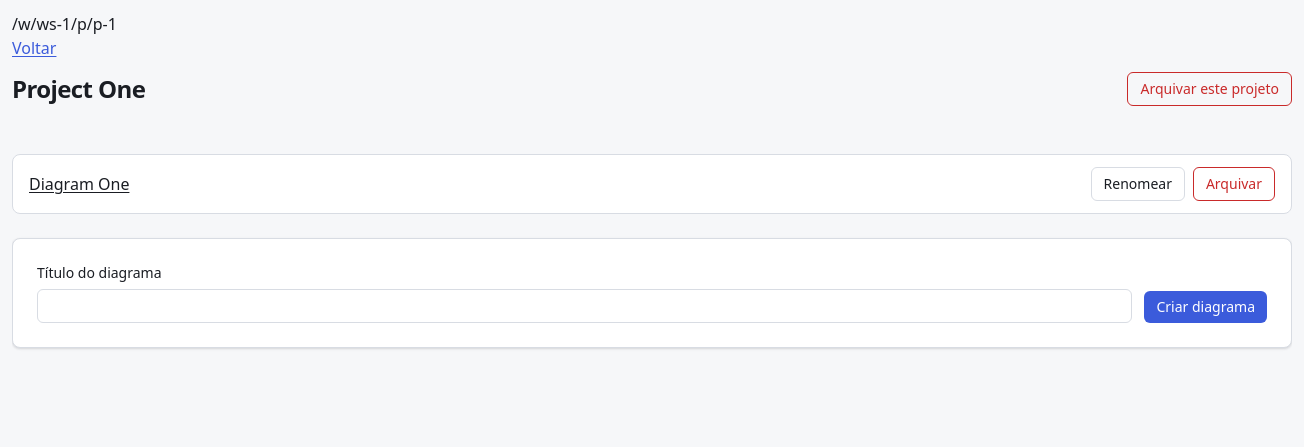
DiagramListPage (NAV-03, NAV-04, NAV-12, empty-list edge case) › rename: a 404 shows a failure message and keeps the previous title
Check: the link "Diagram One" is shown, box x1=29 y1=173 x2=129 y2=195
Step 1. Click the button "Renomear" → [1138, 184], box x1=1091 y1=167 x2=1185 y2=201
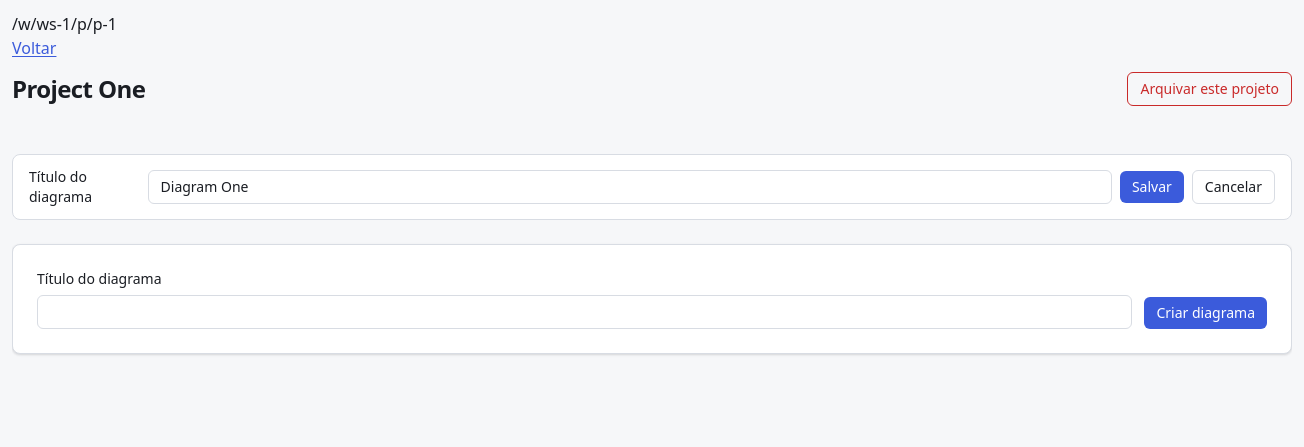
Step 2. Replace the text in the 1st field labelled "Título do diagrama" with "Renamed" → [630, 187], box x1=148 y1=170 x2=1112 y2=204
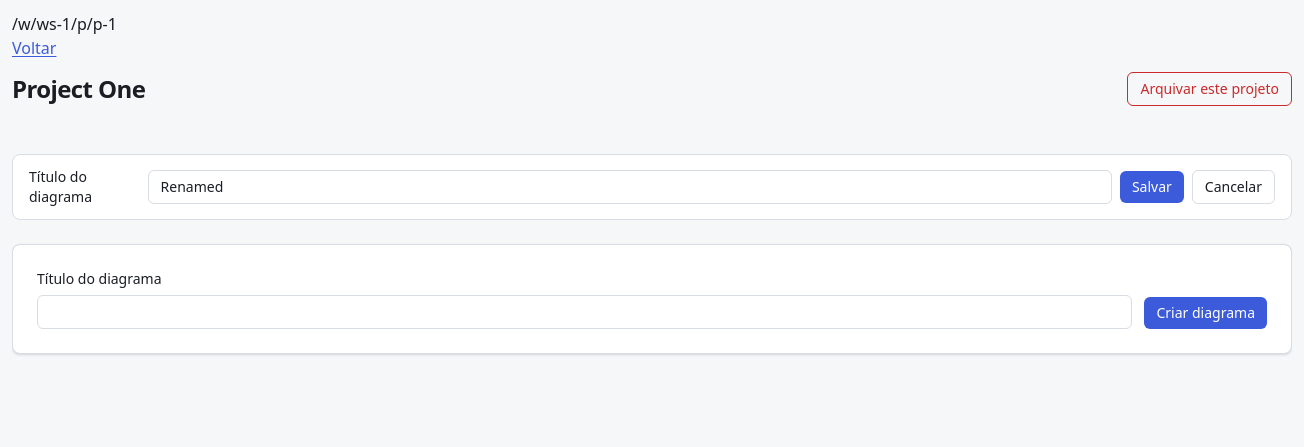
Step 3. Click the button "Salvar" → [1152, 187], box x1=1120 y1=171 x2=1184 y2=203
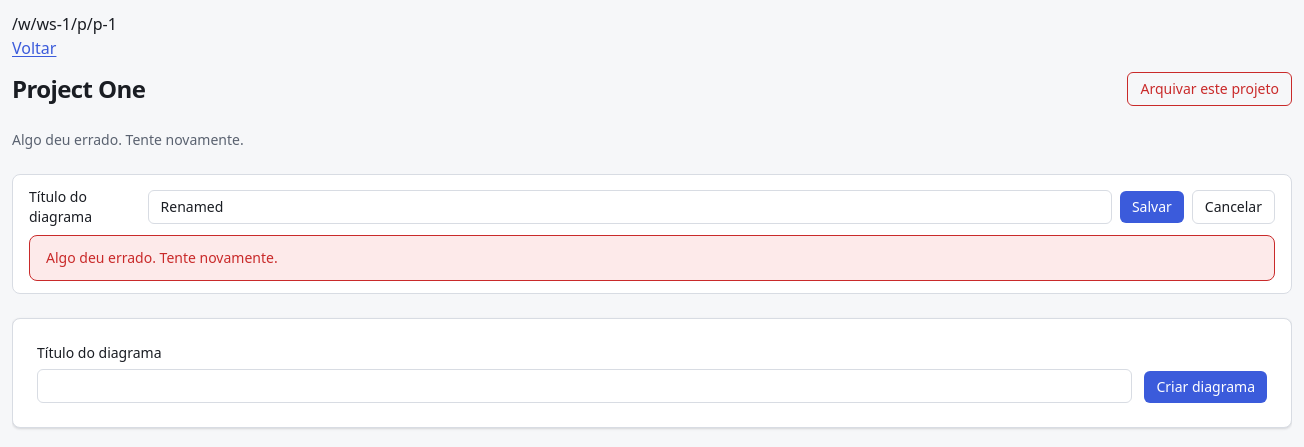
Check: the 2nd text "Algo deu errado. Tente novamente." is shown, box x1=29 y1=235 x2=1275 y2=281
Step 4. Click the button "Cancelar" → [1233, 207], box x1=1192 y1=190 x2=1275 y2=224
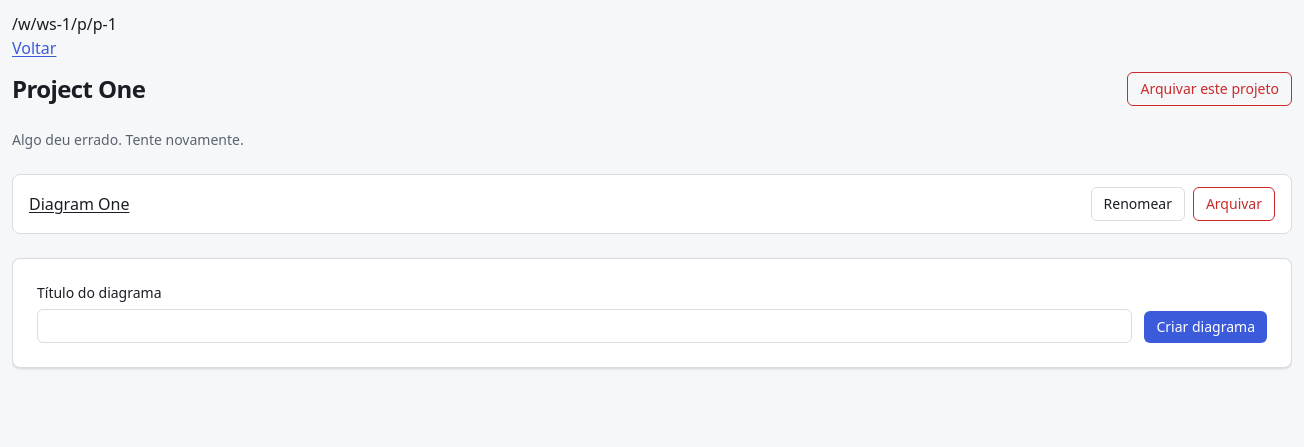
Check: the link "Diagram One" is shown, box x1=29 y1=193 x2=129 y2=215
